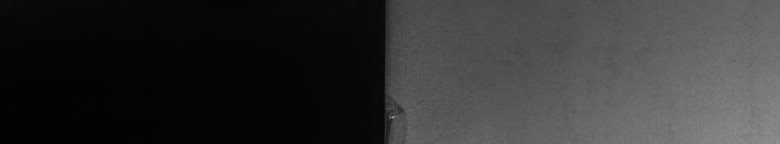hb: (396, 100, 416, 120)
